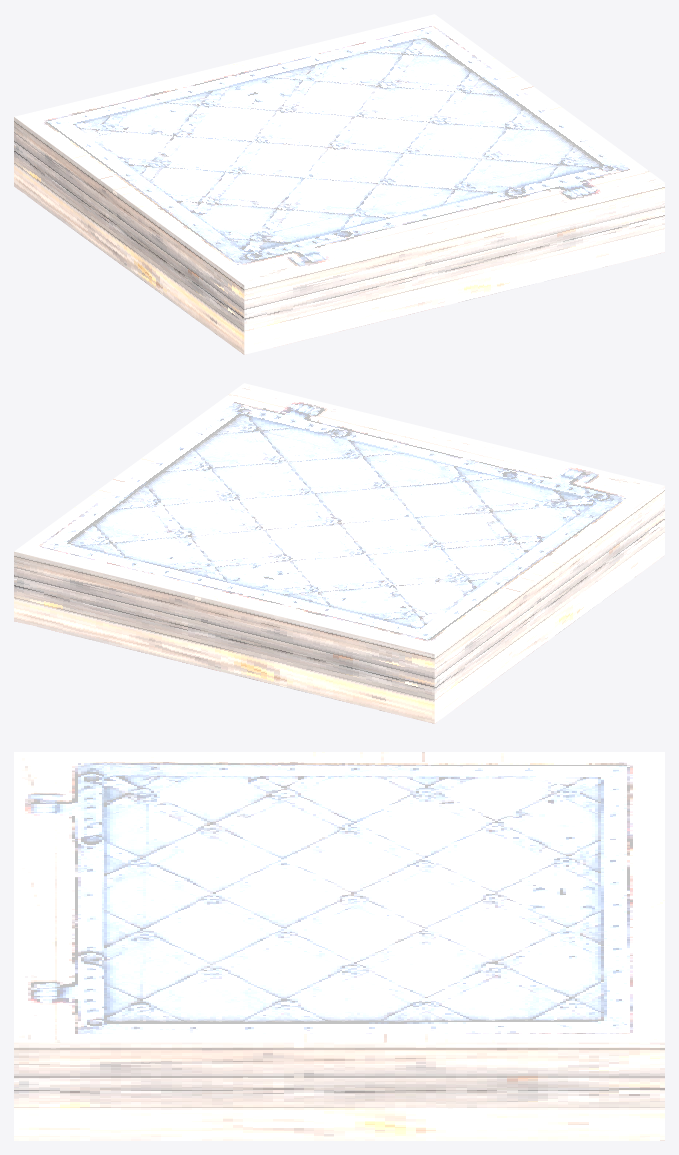
The model's file is hatch.glb.
The picture shows the model from 3 angles, top to bottom: view 1: azimuth 30°, elevation 25°; view 2: azimuth 150°, elevation 25°; view 3: azimuth 270°, elevation 25°; orthographic projection. The views are drawn at different scales.
Parts seen in each view (by area): view 1: hatch; view 2: hatch; view 3: hatch.
Boxes of the visible parts, x1,y1,x2,y2 form: hatch: (14,14,664,354); hatch: (14,383,664,723); hatch: (14,752,664,1140).
Bounding box in the file's own units: 3.8 × 0.6 × 3.6.
